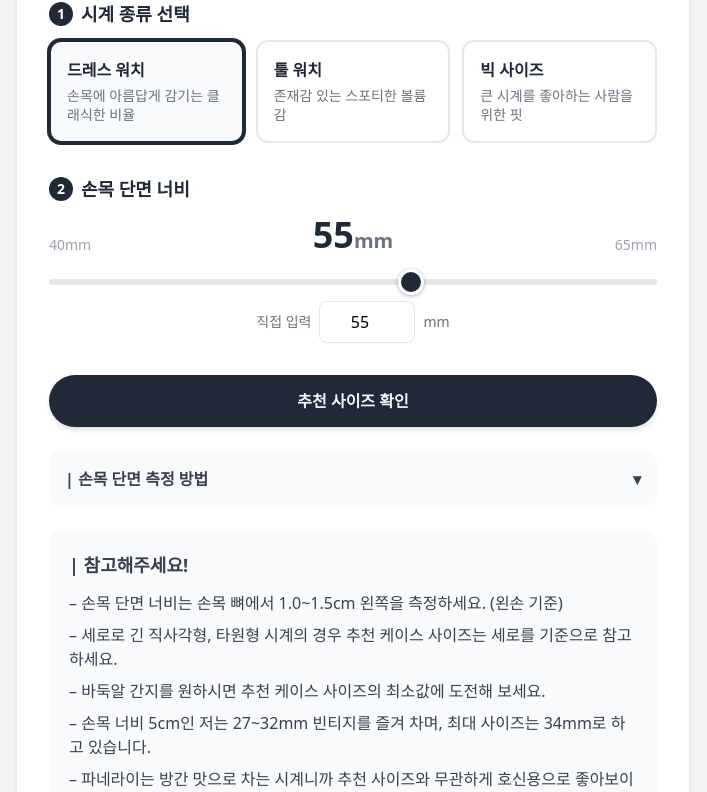
it: FitFinder — 추천 결과 › 버튼을 누르면 추천 케이스와 러그가 나온다
(page scrolled)
Step 1. Click the button "추천 사이즈 확인" → (353, 400), box [49,374,657,426]
(page scrolled)
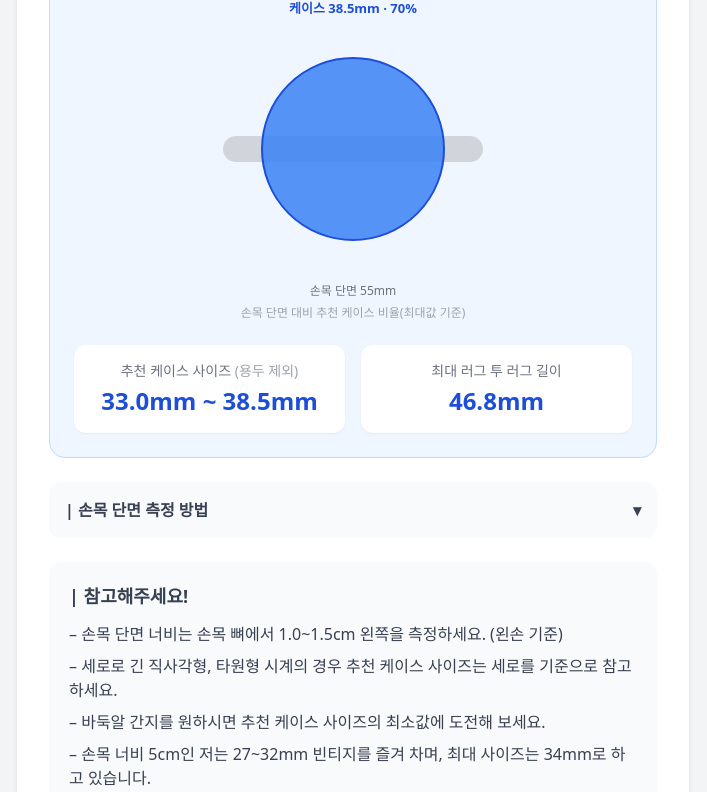
Expected: the text "33.0mm ~ 38.5mm" is shown, [90,384,329,416]
Expected: the text "46.8mm" is shown, [449,384,544,416]
